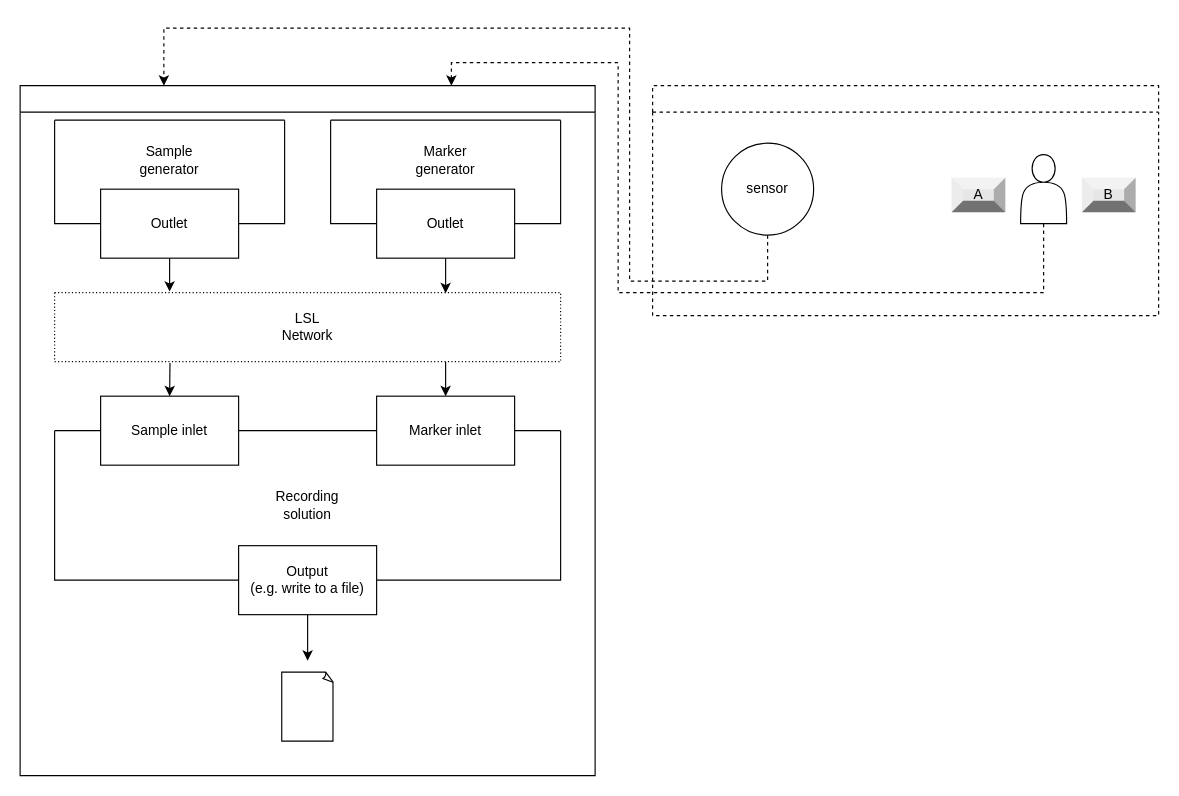
Some shapes in this 1179 by 796 pixel diagram are drawn without their labels. Here are the shapes that lost their labels. From the top down, the box of each, then its label:
(651, 85, 1159, 316): How do we incorporate real-world data sources?
(19, 85, 595, 776): What we've done so far
